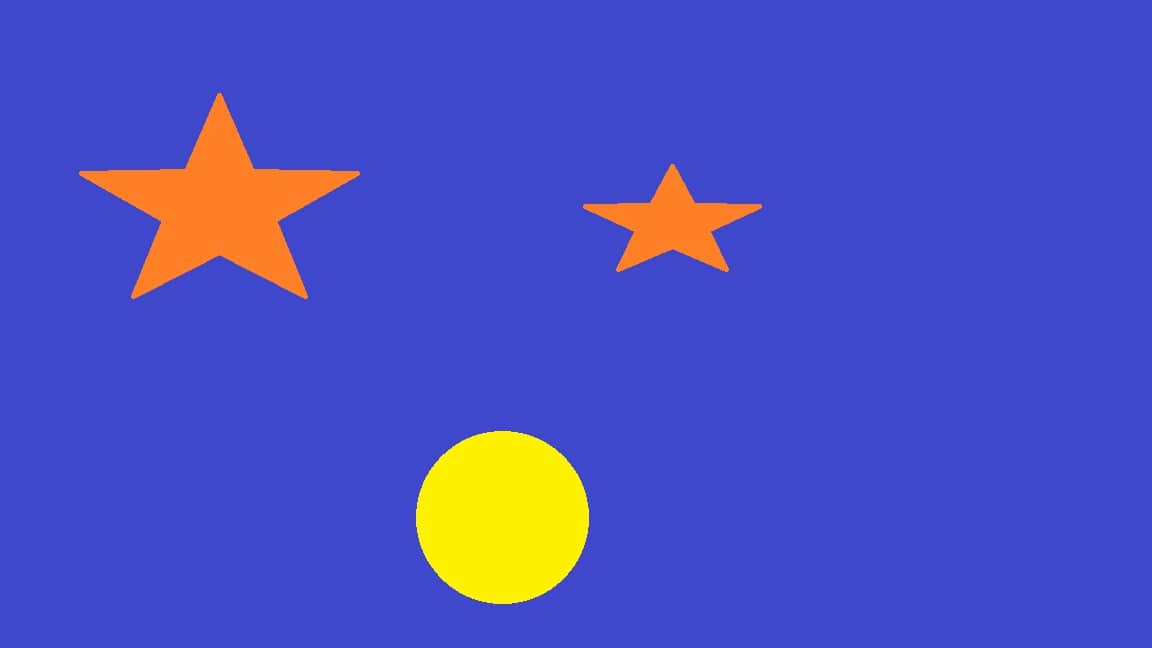Oval: (413, 426, 591, 605)
Star: (76, 92, 359, 301), (580, 160, 761, 275)
